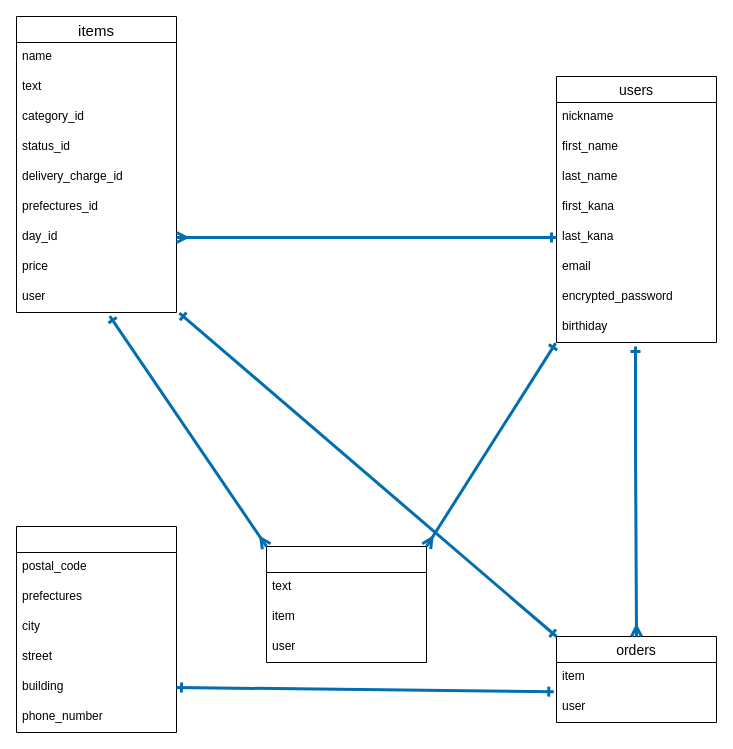
The diagram is 733 pixels wide and 749 high, and some of its shapes have lost their labels. Each missing label, with the box of its shape:
addresses: (16, 526, 176, 732)
comment: (266, 546, 426, 662)
